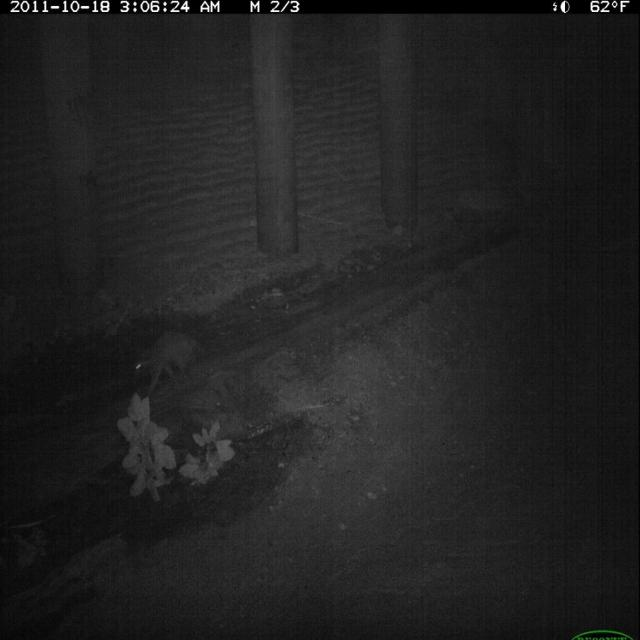raccoon: (132, 323, 207, 399)
